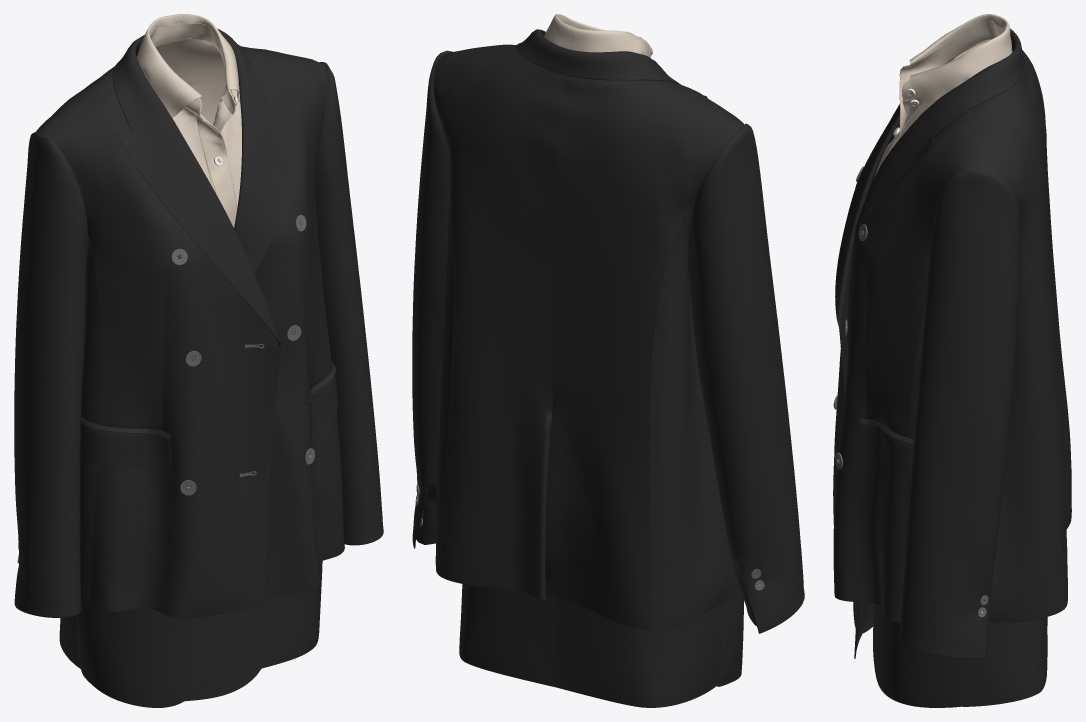
File: double-breasted-blazer.glb
The picture shows the model from 3 angles, left to right: view 1: azimuth 30°, elevation 25°; view 2: azimuth 150°, elevation 25°; view 3: azimuth 270°, elevation 25°; orthographic projection. The views are drawn at different scales.
Parts seen in each view (by area): view 1: 前片5_2_front, 大袖15 对称 1_1_front, 前片5 对称 1_2_front, 大袖15_1_front, 版片6_2_1 拷贝 1_2_front, 版片110_front, 版片36 对称 1_2_front, 前片7_front, 版片6_2_1 拷贝 1_2_front(1), 版片6_2_1_front, 兜盖16 对称 1_1_front, 版片930_2_2_front (+12 smaller); view 2: 版片60_front, 后片9 Symmetry 1_front, 大袖15 对称 1_1_front, 后侧8_front, 版片6 对称 2_front, 大袖15_1_front, 版片6 对称 1_1_1_1_front, 大袖11_2_front, 大袖11 对称 1_2_front, 后侧8 对称 1_front, 版片930_2_2_front, 版片6_2_1 拷贝 1_2_front (+4 smaller); view 3: 大袖15_1_front, 前片5 对称 1_2_front, 后侧8 对称 1_front, 后片9 Symmetry 1_front, 版片6 对称 1_1_1_1_front, 版片6_2_1_front, 版片110_front, 版片930_2_2 对称 1_front, 版片44_2_front, 版片60_front, 版片36 对称 1_2_front, 兜盖16 对称 3_front (+5 smaller).
Part boxes in pixels (x1,y1,x2,y2): 前片5_2_front: (45,89,280,619); 大袖15 对称 1_1_front: (14,131,88,617); 前片5 对称 1_2_front: (254,55,344,599); 大袖15_1_front: (315,62,383,545); 版片6_2_1 拷贝 1_2_front: (76,600,229,707); 版片110_front: (116,111,280,618); 版片36 对称 1_2_front: (234,90,292,273); 前片7_front: (80,235,101,603); 版片6_2_1 拷贝 1_2_front(1): (185,597,278,701); 版片6_2_1_front: (261,561,322,668); 兜盖16 对称 1_1_front: (80,423,170,471); 版片930_2_2_front: (112,35,167,136); 版片60_front: (545,76,742,629); 后片9 Symmetry 1_front: (433,45,568,600); 大袖15 对称 1_1_front: (692,123,804,633); 后侧8_front: (649,195,722,629); 版片6 对称 2_front: (555,597,723,707); 大袖15_1_front: (412,50,452,548); 版片6 对称 1_1_1_1_front: (459,584,555,687); 大袖11_2_front: (688,213,756,625); 大袖11 对称 1_2_front: (416,173,449,544); 后侧8 对称 1_front: (435,154,454,576); 版片930_2_2_front: (567,50,680,84); 版片6_2_1 拷贝 1_2_front: (717,594,743,686); 大袖15_1_front: (899,168,1019,659); 前片5 对称 1_2_front: (833,106,977,622); 后侧8 对称 1_front: (989,219,1064,622); 后片9 Symmetry 1_front: (972,71,1067,607); 版片6 对称 1_1_1_1_front: (958,617,1047,706); 版片6_2_1_front: (873,604,960,707); 版片110_front: (835,105,899,396); 版片930_2_2 对称 1_front: (920,43,1024,135); 版片44_2_front: (909,25,1011,107); 版片60_front: (1022,50,1071,528); 版片36 对称 1_2_front: (854,104,934,239); 兜盖16 对称 3_front: (857,423,913,478).
Bounding box in the file's own units: 49.95 × 84.33 × 28.49.
10 materials, 3 textured.
